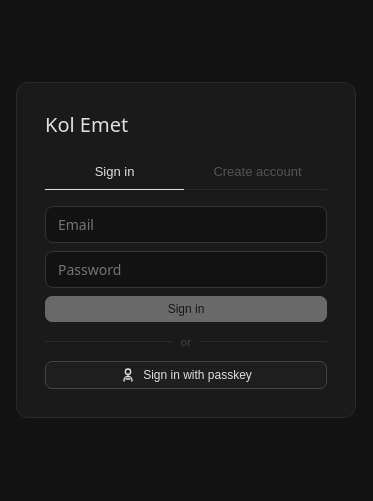
Scenario: LoginView password minimum › create-account mode states it, by number, and asks the browser for it too
This screenshot has width=373, height=501.
Click the button "Create account" at (258,174), box [188, 158, 327, 189]
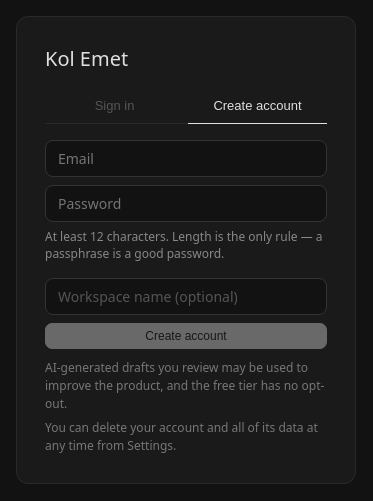
Expected: the text with class "login-hint" shows "At least 12 characters", [45, 228, 323, 262]
